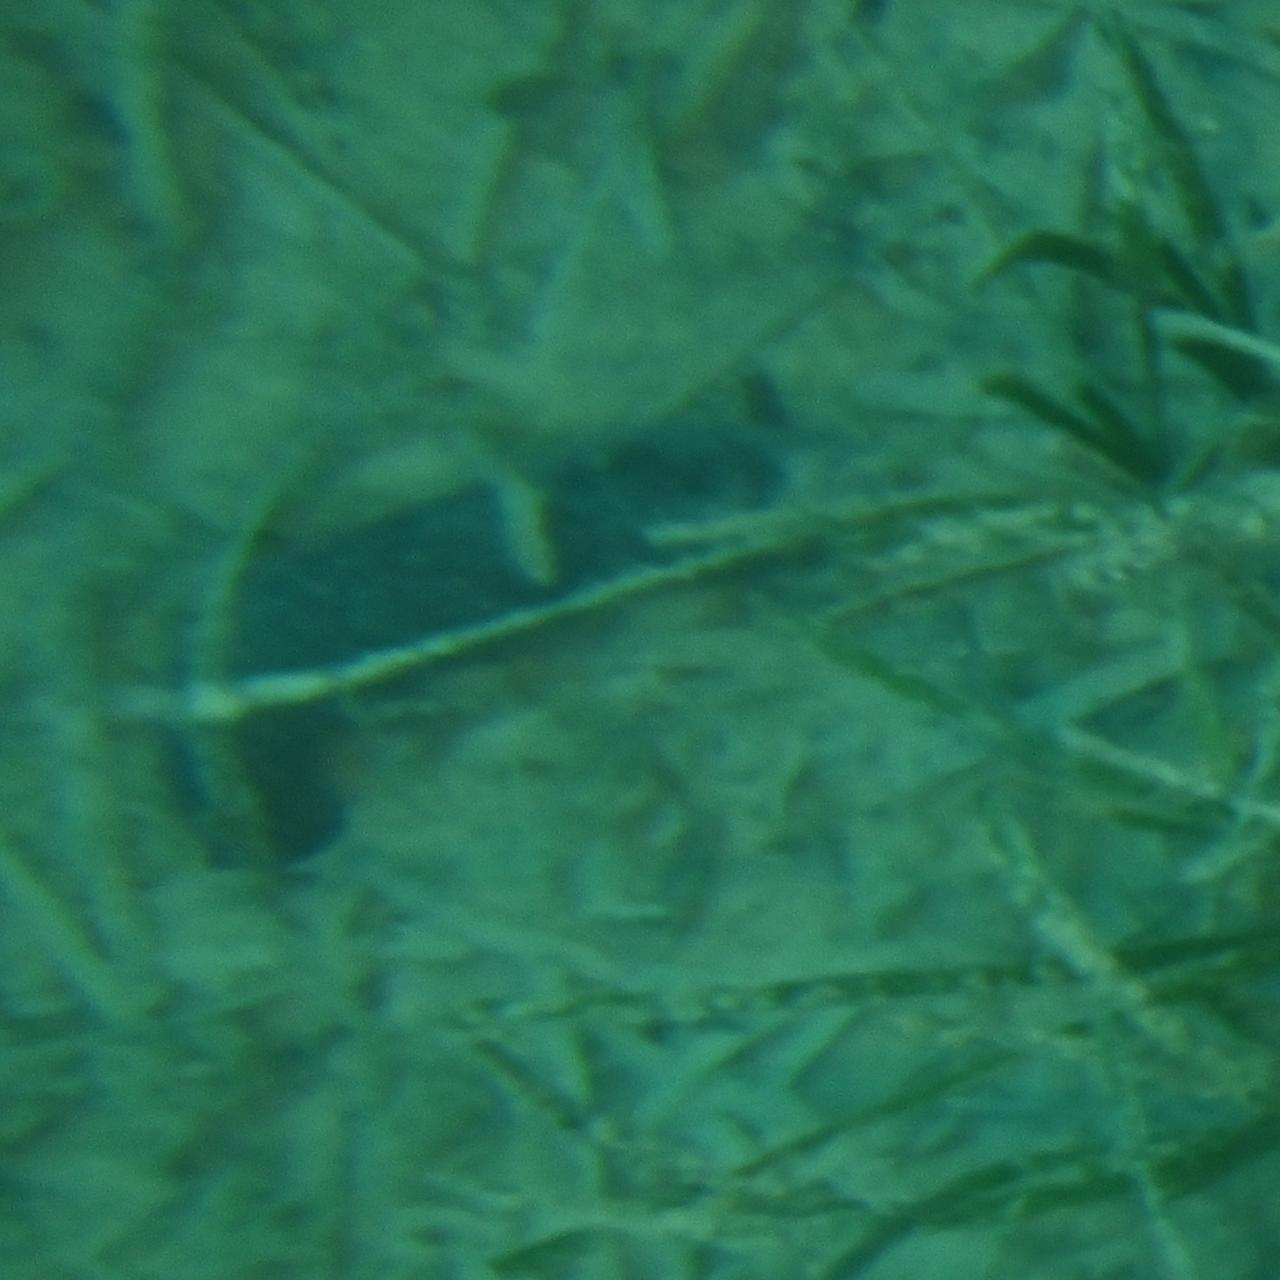Holothuria tubulosa: (179, 411, 812, 869)
